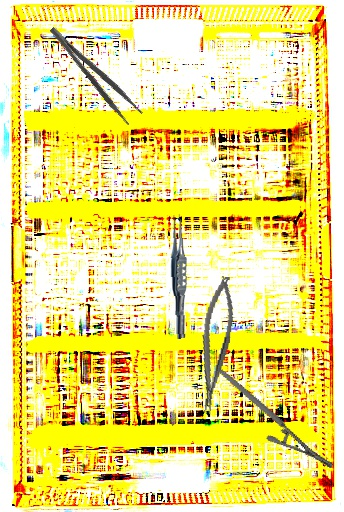Dressing Forceps: (47, 17, 144, 128)
Needle Holder: (219, 344, 335, 493), (189, 274, 241, 416)
Tissue Forceps: (167, 214, 191, 339)
